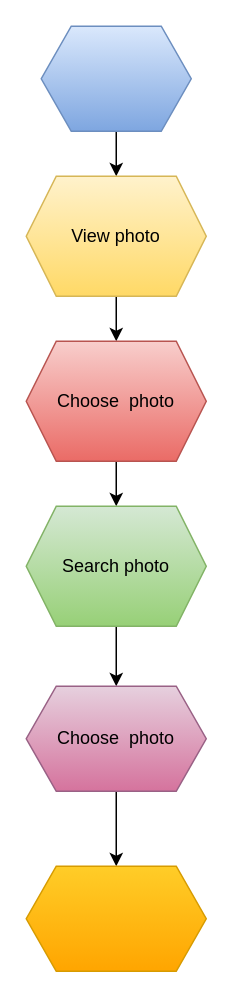
Image size: 233x998. Some labels were removed from this diagram. Here are the shapes that lost their labels. From the top down, the centre of each, then its label:
At pixel 115 78: "Upload a photo".
At pixel 115 918: "Delete photo".
